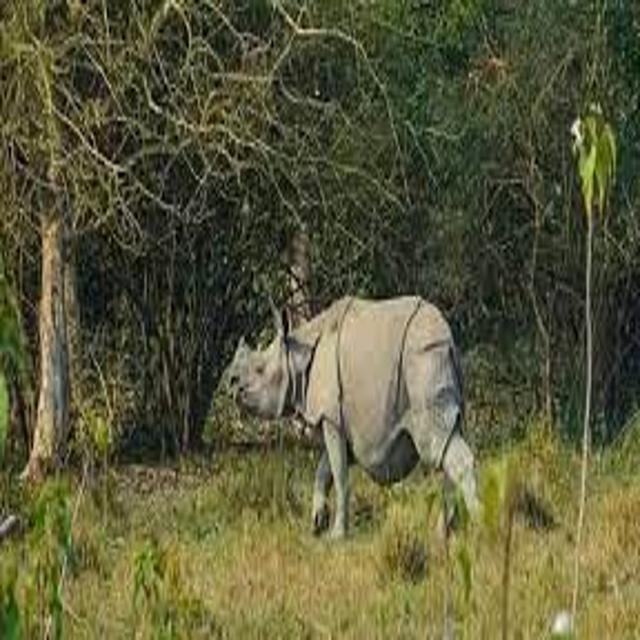Rinoceros: (214, 255, 510, 550)
